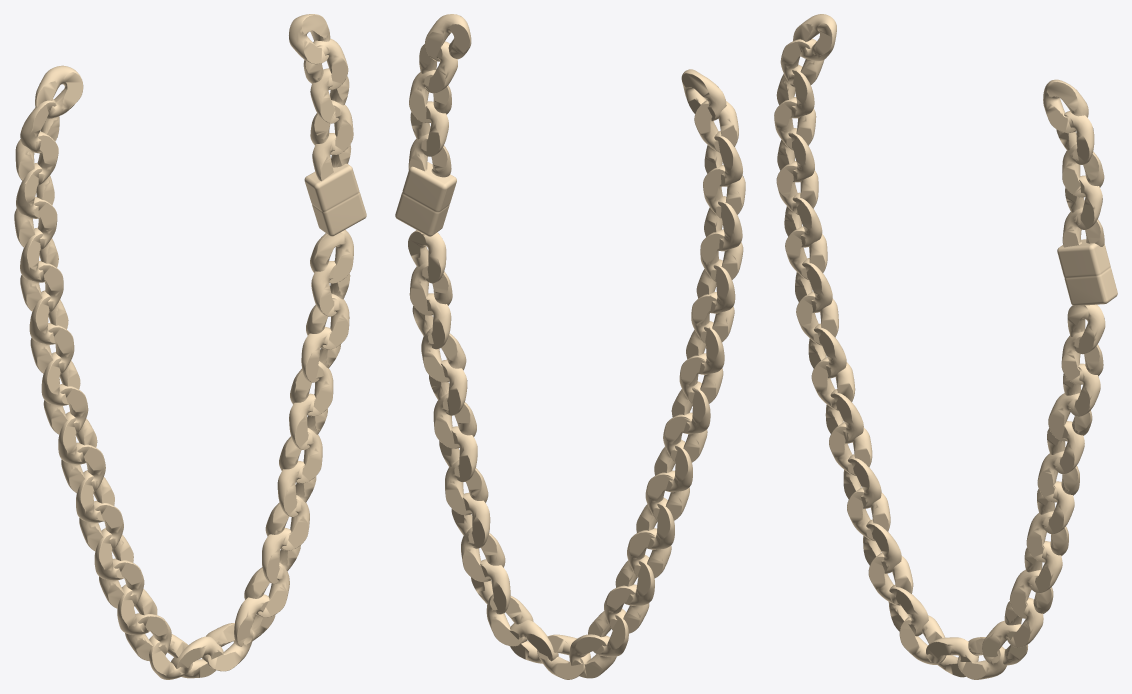
File: chain-46-e3559abd.2026-10-07.glb
3 renders of one model, left to right at view 1: azimuth 30°, elevation 25°; view 2: azimuth 150°, elevation 25°; view 3: azimuth 330°, elevation 25°, orthographic. The views are drawn at different scales.
Visible parts, largest first — view 1: chain, clasp; view 2: chain, clasp; view 3: chain, clasp.
Boxes of the visible parts, box(x1,y1,x2,y2) form: chain: box(14, 14, 353, 679); clasp: box(304, 163, 366, 236); chain: box(408, 14, 745, 679); clasp: box(395, 162, 456, 236); chain: box(774, 14, 1105, 679); clasp: box(1057, 239, 1117, 306).
Bounding box in the file's own units: 0.1094 × 0.1945 × 0.00737.
